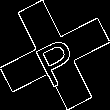P_NW: (27, 24, 83, 86)
